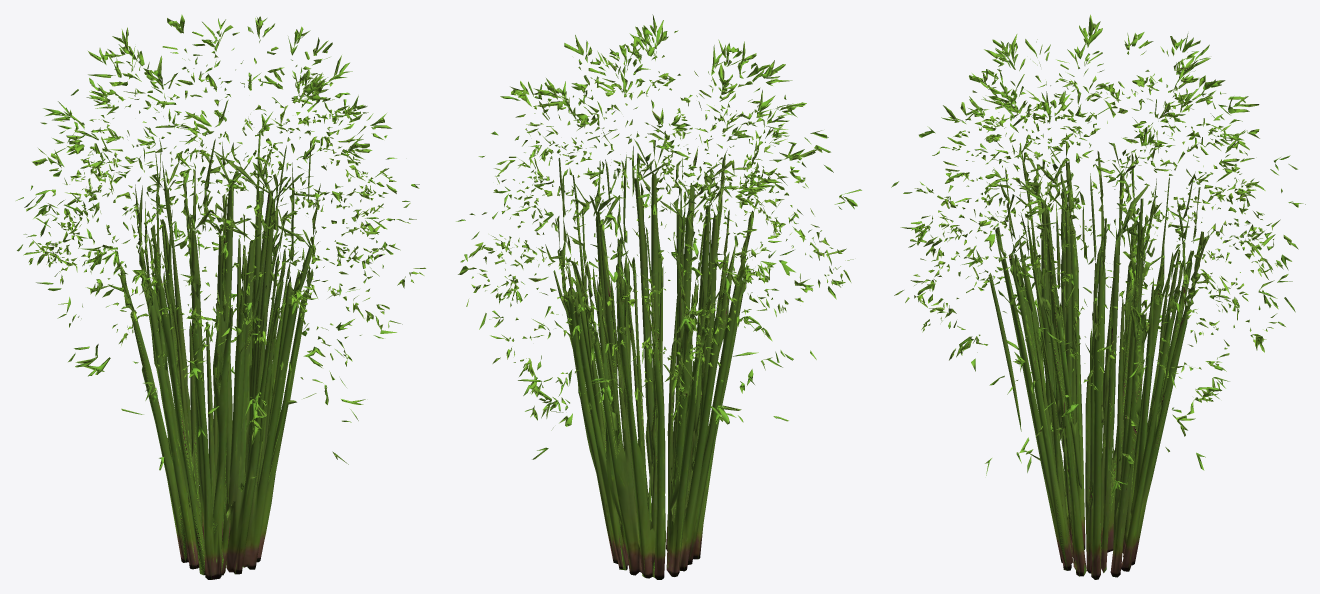
The model's file is bamboo-clump.glb.
3 views of the same model, side by side, from view 1: azimuth 30°, elevation 25°; view 2: azimuth 150°, elevation 25°; view 3: azimuth 270°, elevation 25° (orthographic). The views are drawn at different scales.
Visible parts, largest first — view 1: world; view 2: world; view 3: world.
Boxes of the visible parts, box(x1,y1,x2,y2) form: world: box(16, 14, 425, 579); world: box(456, 14, 861, 579); world: box(891, 14, 1305, 579).
Size of the model in its own units: 0.7681 by 0.9993 by 0.7256.
1 material, 1 textured.
